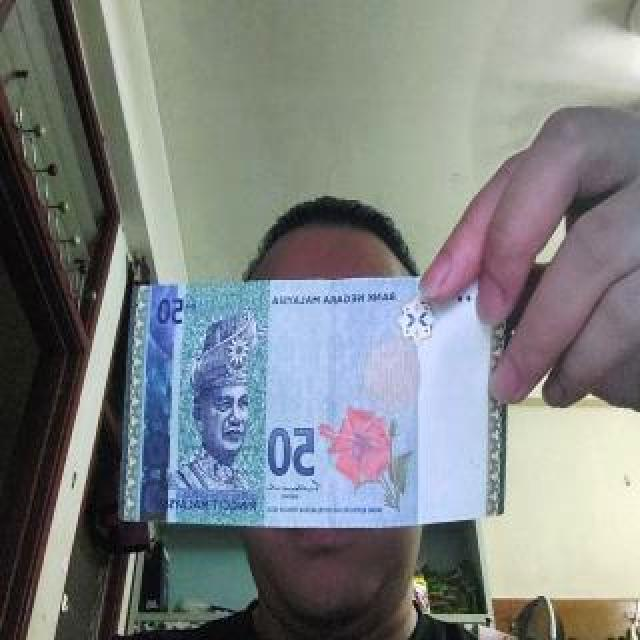50 Ringgit: (112, 266, 534, 543)
